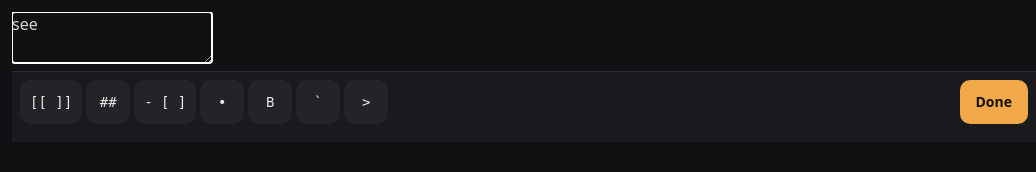
Scenario: the Markdown toolbar › Bold without a selection inserts the pair with the caret inside
This screenshot has width=1036, height=172.
Click the button named "Bold" at point(270, 102), box [248, 80, 292, 124]
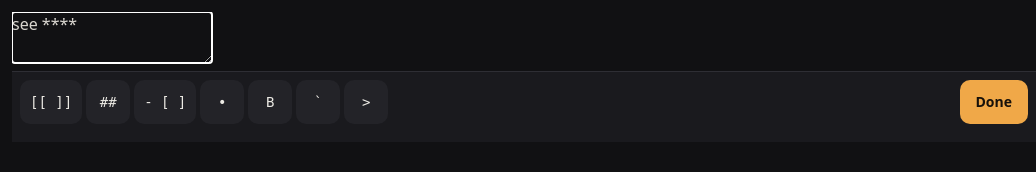
Check: the text box named "Markdown source" holds "see ****", box [12, 12, 212, 63]
